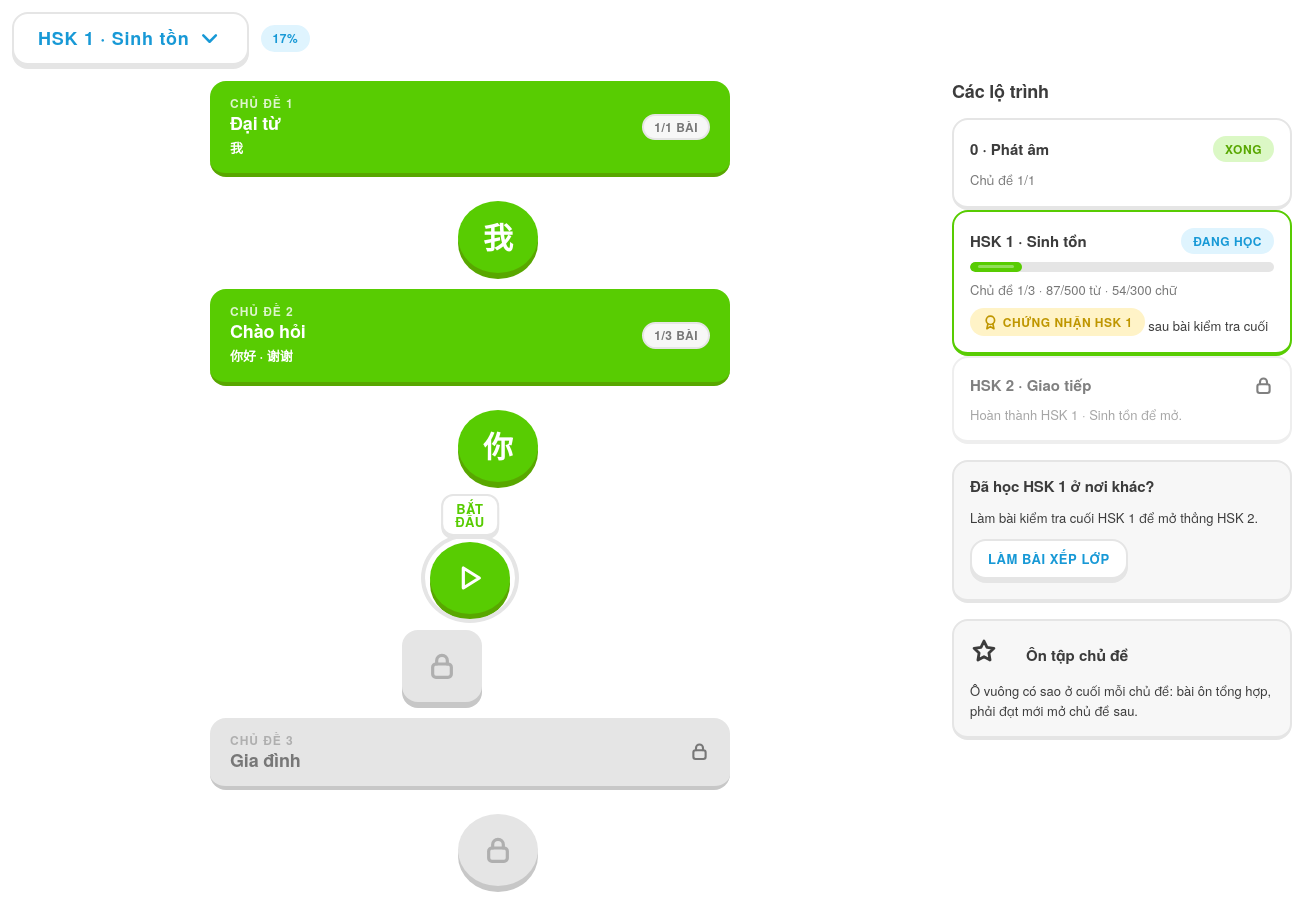
Test case: PathView › bài ở chủ đề khóa: toast nói bài ôn của chủ đề trước
Step 1. Click the button named "Bài 1: Bố mẹ, bị khóa" → click(498, 850), box [458,814,538,886]
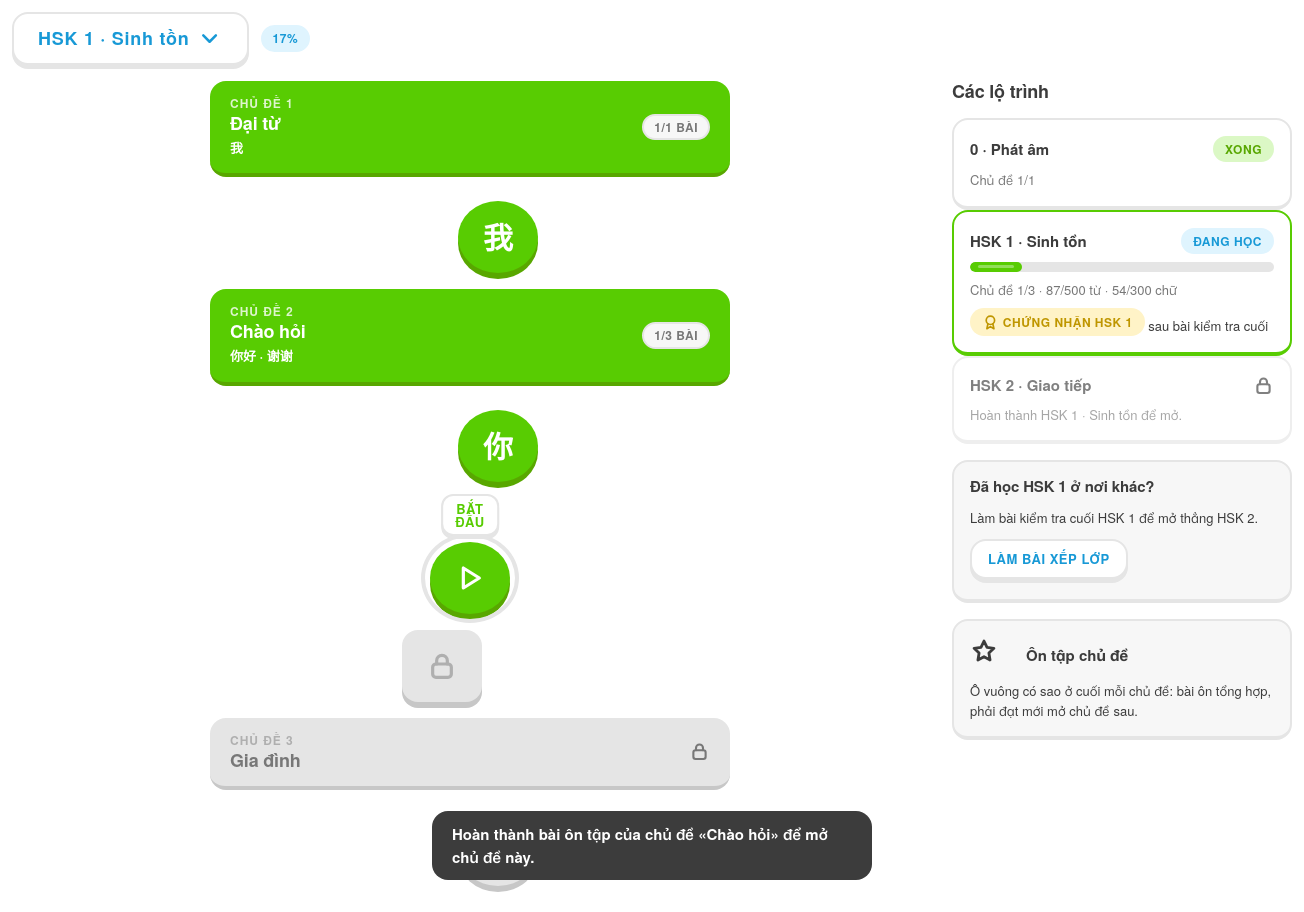
Expected: the message shows "«Chào hỏi»", [452,823,828,868]
